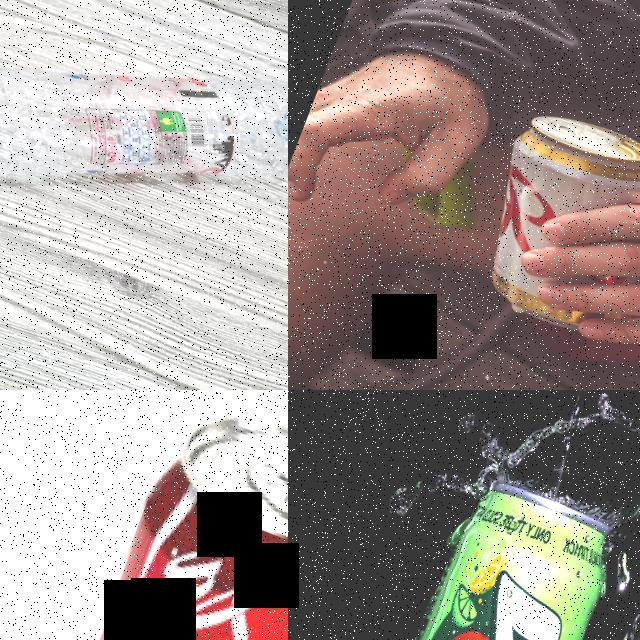bottle: (0, 0, 288, 292)
can: (0, 390, 288, 640), (320, 470, 626, 640), (455, 96, 640, 353)
